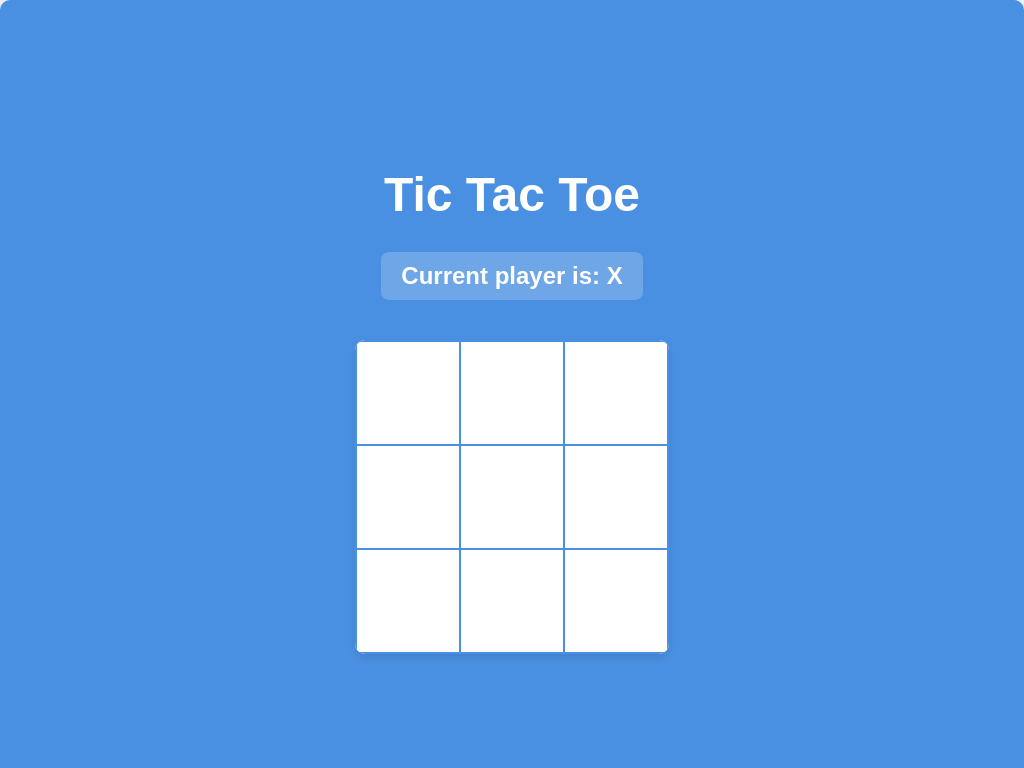
it: App › should show winner
Click the 1st cell. click: (408, 392)
box: [356,340,460,444]
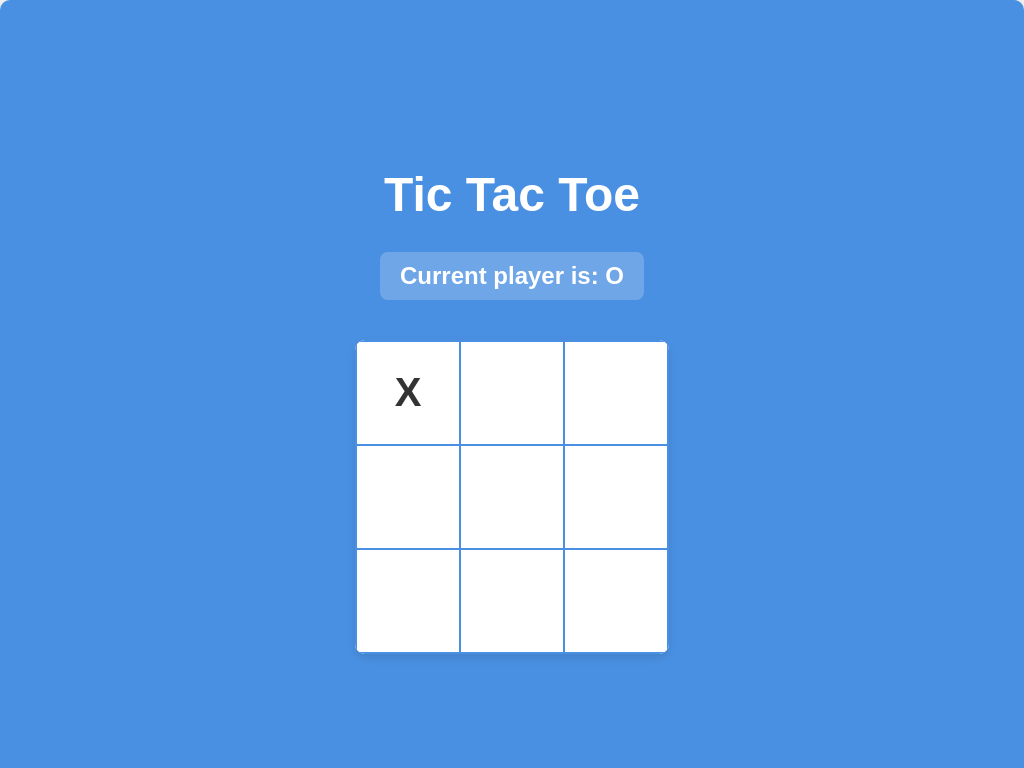
Click the 4th cell. click: (408, 496)
box: [356,444,460,548]
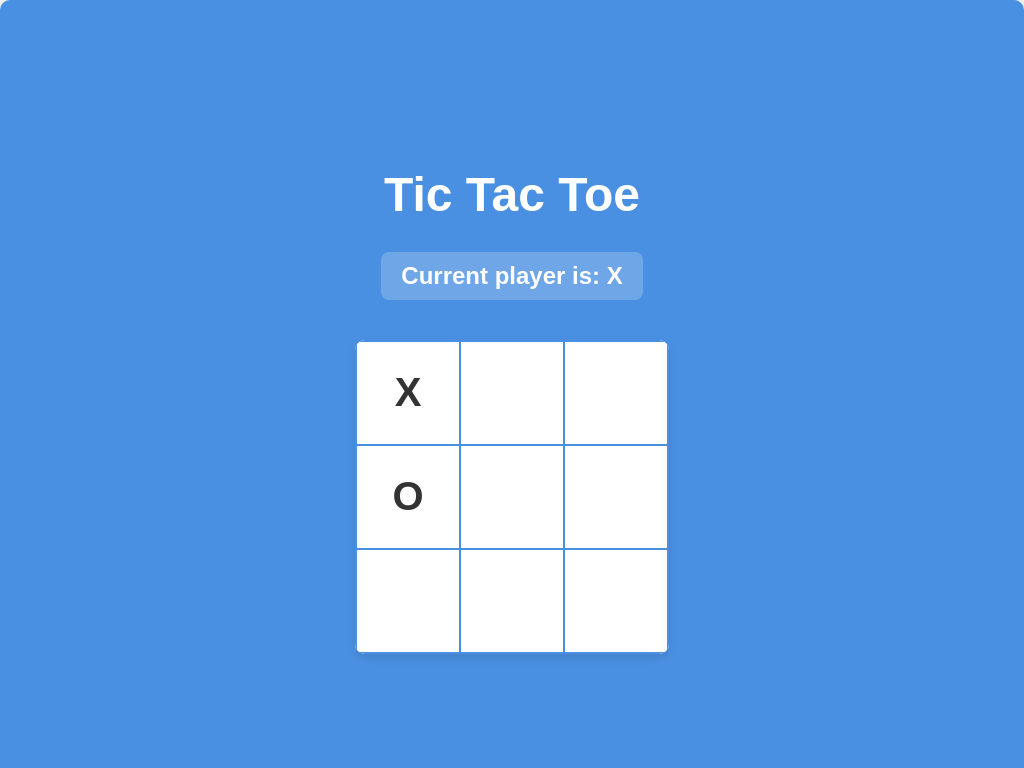
Click the 2nd cell. click: (512, 392)
box: [460,340,564,444]
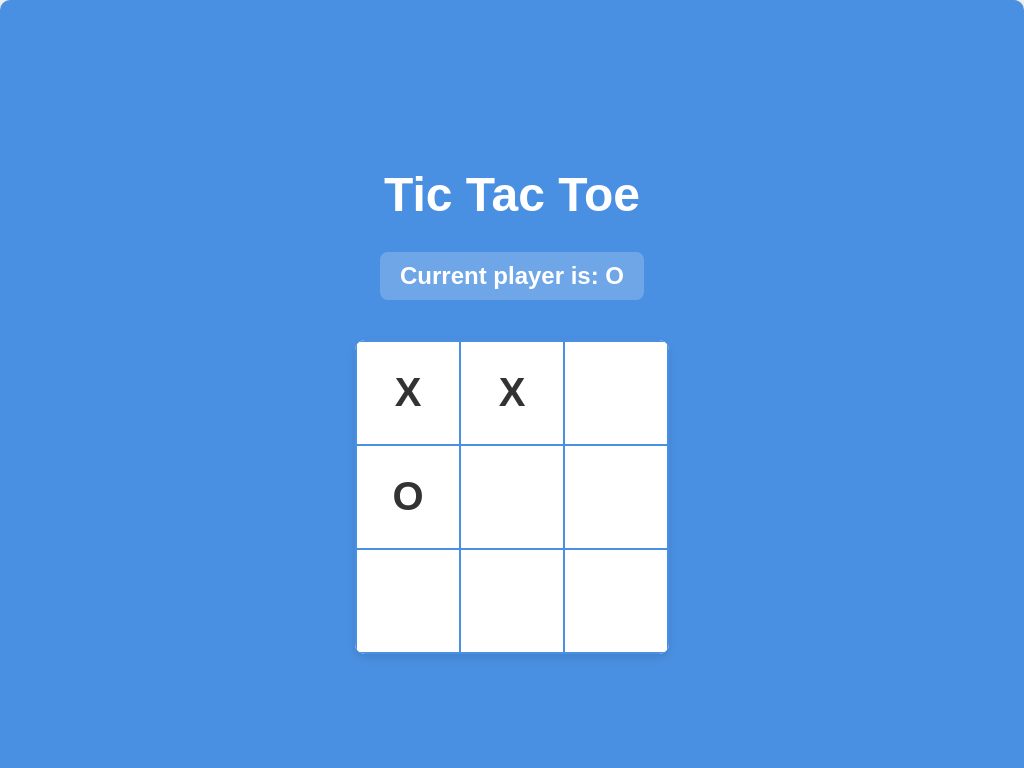
Click the 5th cell. click: (512, 496)
box: [460,444,564,548]
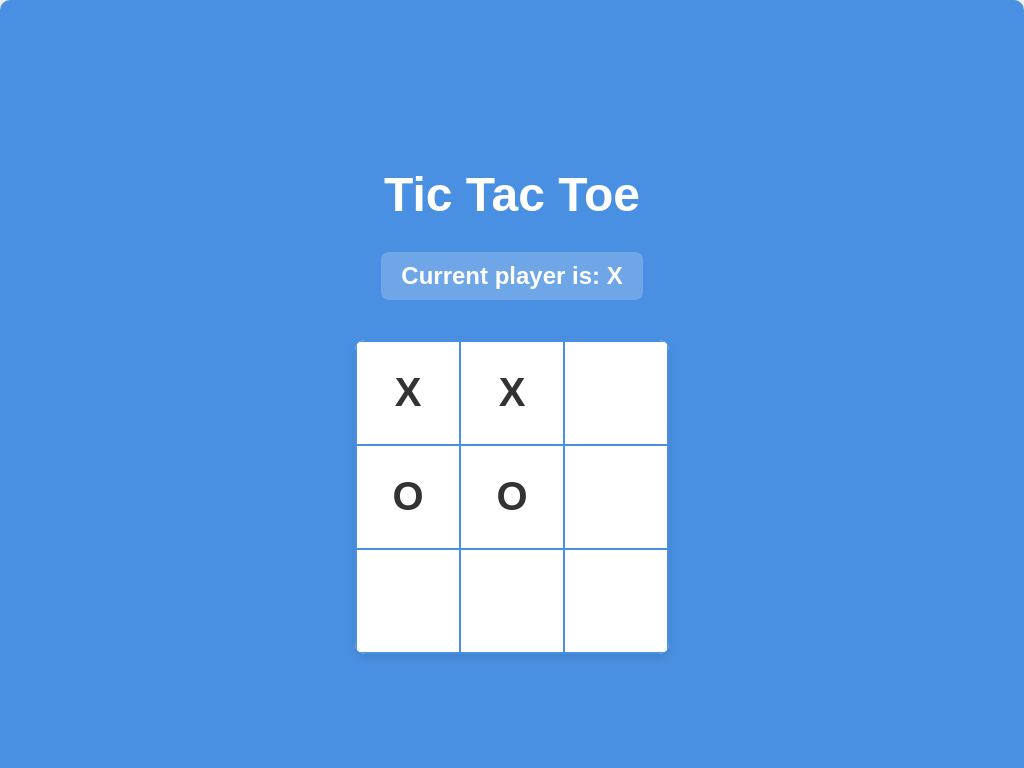
Click the 3rd cell. click: (616, 392)
box: [564,340,668,444]
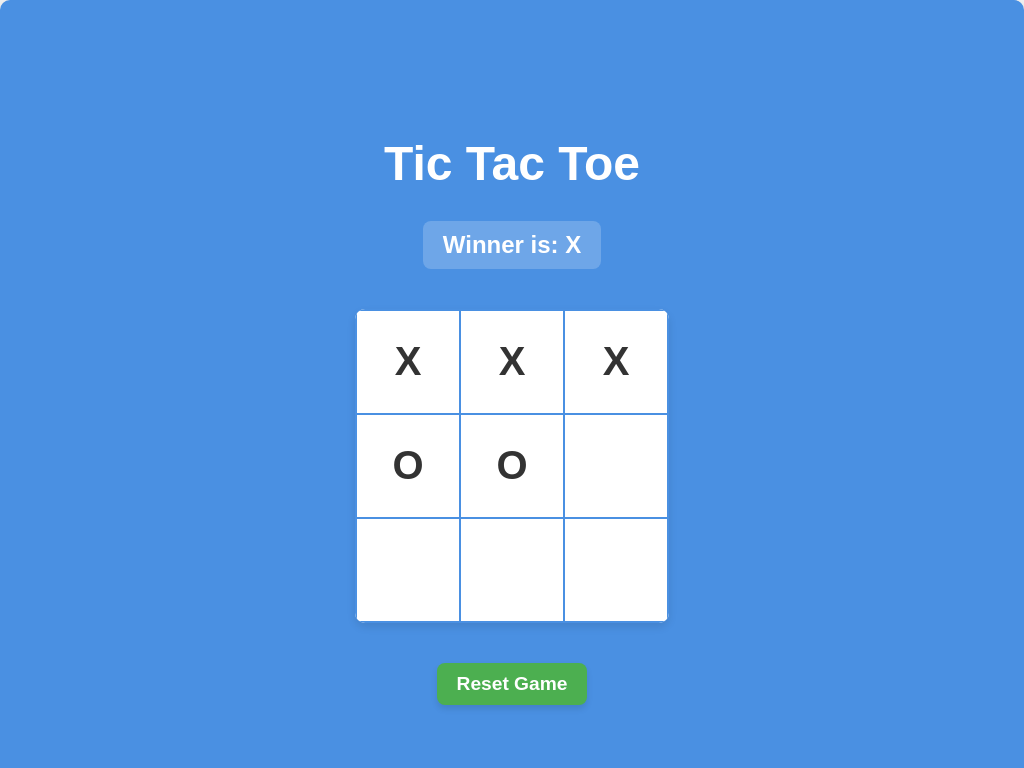
Expected: the heading "Winner is: X" is shown, [423,220,601,268]
